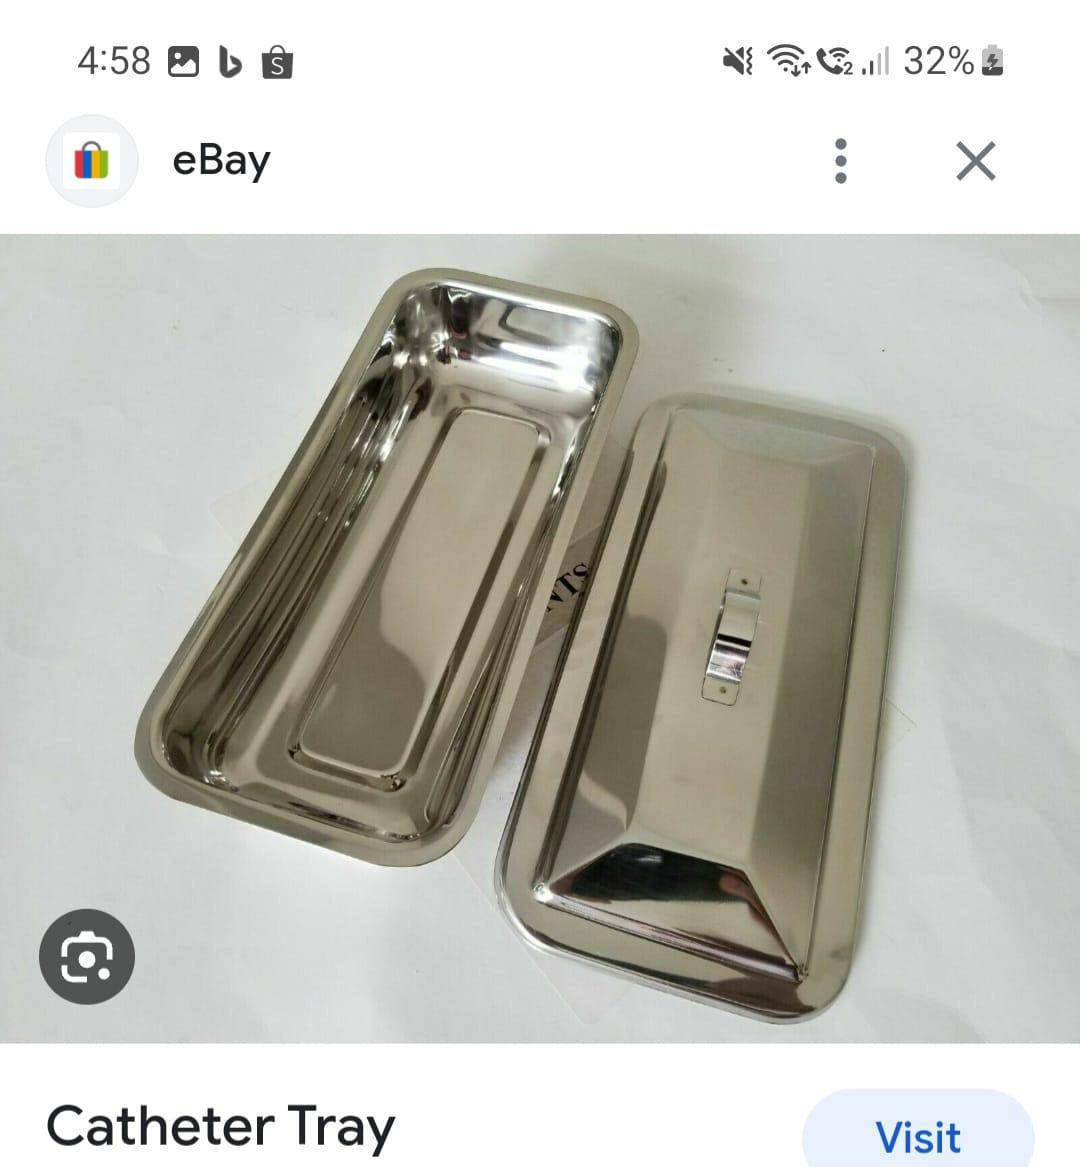Catheter Tray: (128, 243, 642, 870)
